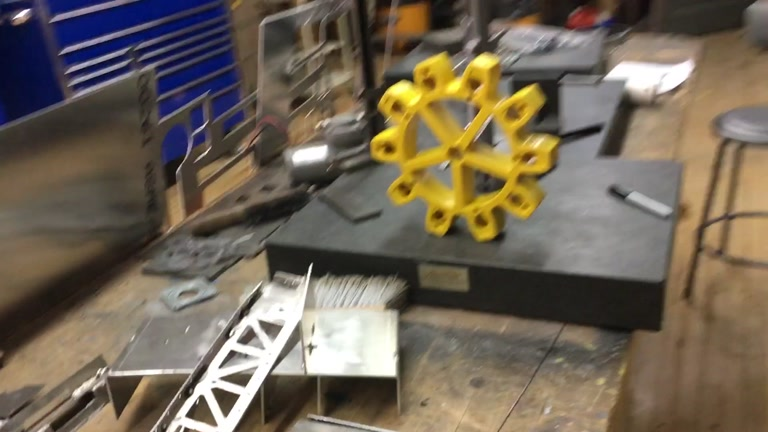gear: (370, 51, 561, 244)
